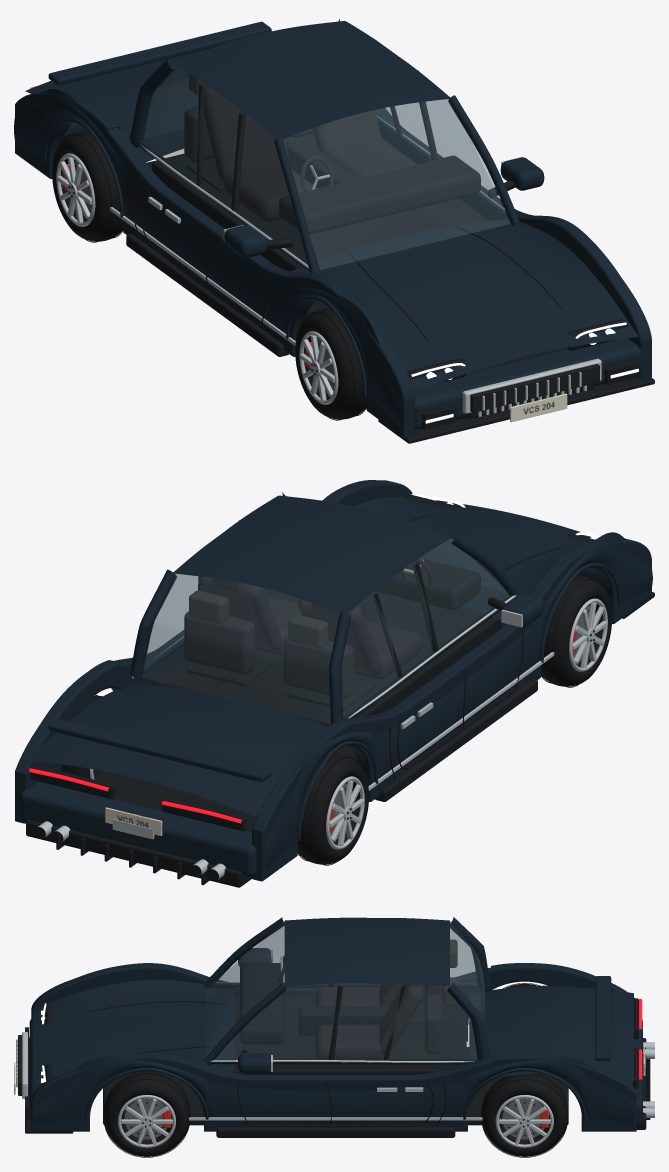
The model's file is shadow-lx-detailed-v3.glb.
3 views of the same model, one above another, from view 1: azimuth 30°, elevation 25°; view 2: azimuth 150°, elevation 25°; view 3: azimuth 270°, elevation 25° (orthographic). The views are drawn at different scales.
Parts seen in each view (by area): view 1: Midnight_Blue_Clearcoat, Smoked_Automotive_Glass, Graphite_Trim (×2), Charcoal_Leather, Performance_Rubber (×2), Forged_Aluminium (×3), Polished_Aluminium, Panel_Shut_Lines, Registration_Plate; view 2: Midnight_Blue_Clearcoat, Smoked_Automotive_Glass, Graphite_Trim (×2), Charcoal_Leather (×2), Performance_Rubber (×2), Forged_Aluminium (×3), Polished_Aluminium, Panel_Shut_Lines, LED_Rear_Lights, Registration_Plate; view 3: Midnight_Blue_Clearcoat, Smoked_Automotive_Glass, Graphite_Trim (×2), Performance_Rubber (×2), Charcoal_Leather (×2), Forged_Aluminium (×3), Polished_Aluminium, Ventilated_Brake_Disc (×2), Tire_Grooves (×2), Panel_Shut_Lines.
Part boxes in pixels (box(x1,y1,x2,y2)): Midnight_Blue_Clearcoat: box(14, 19, 651, 437); Smoked_Automotive_Glass: box(141, 63, 510, 269); Graphite_Trim (×2): box(126, 70, 654, 443); Charcoal_Leather: box(184, 85, 416, 221); Performance_Rubber (×2): box(52, 130, 366, 419); Forged_Aluminium (×3): box(56, 153, 586, 416); Polished_Aluminium: box(110, 115, 601, 413); Panel_Shut_Lines: box(132, 179, 562, 341); Registration_Plate: box(510, 393, 567, 422); Midnight_Blue_Clearcoat: box(15, 480, 652, 881); Smoked_Automotive_Glass: box(142, 538, 509, 723); Graphite_Trim (×2): box(26, 495, 654, 887); Charcoal_Leather (×2): box(184, 558, 432, 698); Performance_Rubber (×2): box(297, 575, 611, 864); Forged_Aluminium (×3): box(37, 559, 607, 879); Polished_Aluminium: box(131, 595, 554, 790); Panel_Shut_Lines: box(389, 514, 562, 779); LED_Rear_Lights: box(29, 768, 241, 823); Registration_Plate: box(105, 807, 162, 835); Midnight_Blue_Clearcoat: box(29, 917, 642, 1131); Smoked_Automotive_Glass: box(206, 921, 484, 1058); Graphite_Trim (×2): box(18, 963, 650, 1137); Performance_Rubber (×2): box(103, 1073, 568, 1156); Charcoal_Leather (×2): box(277, 939, 457, 1059); Forged_Aluminium (×3): box(118, 950, 654, 1147); Polished_Aluminium: box(16, 982, 500, 1120); Ventilated_Brake_Disc (×2): box(124, 1098, 544, 1139); Tire_Grooves (×2): box(103, 1072, 567, 1157); Panel_Shut_Lines: box(81, 1001, 446, 1127).
Size of the model in its own units: 2.26 by 1.52 by 5.32.
Materials: 18 (2 with a texture image).
